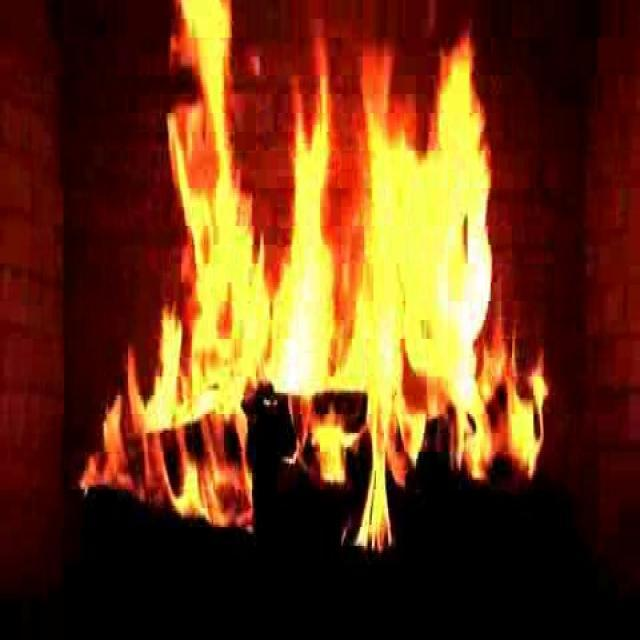Fire: (140, 0, 558, 545)
